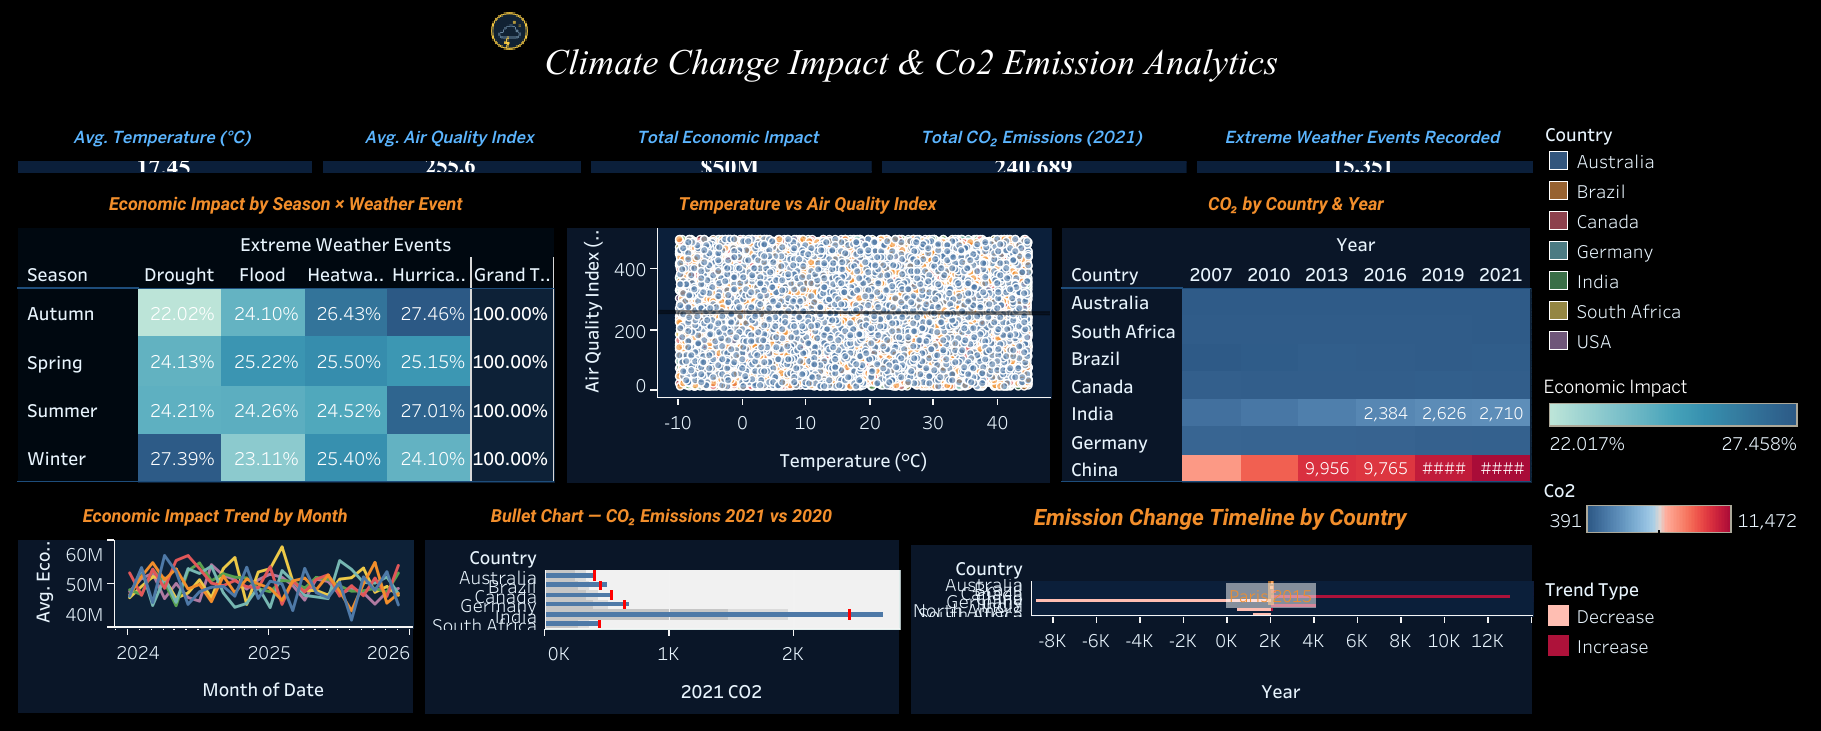

Layout of this report page (visuals, bound fields, positions):
{"tool":"tableau","page":{"name":"Dashboard 1","canvas":[1000,1000],"units":"permille","ordinal":0},"visuals":[{"type":"title","box":[4.8,9.9,990.4,81.9]},{"type":"image","param":"Image/climate-icon-weather.svg","box":[268.6,13.7,36.7,55.8]},{"type":"worksheet","title":"KPI - Avg Temp","mark":"Automatic","box":[4.8,91.8,175.4,97.9]},{"type":"worksheet","title":"KPI - Avg AQI","mark":"Automatic","box":[180.2,91.8,155.2,97.9]},{"type":"worksheet","title":"KPI - Total Economic Impact","mark":"Automatic","box":[335.5,91.8,167.9,97.9]},{"type":"worksheet","title":"KPI - Total CO2","mark":"Automatic","box":[503.4,91.8,182,97.9]},{"type":"worksheet","title":"KPI - Weather Events","mark":"Automatic","box":[685.3,91.8,200.5,97.9]},{"type":"legend","title":"Scatter Plot","param":"[federated.12lx5ag0sbzqpu15u7k9f15peyc4].[none:Country:nk]","box":[885.8,91.8,109.4,259.3]},{"type":"worksheet","title":"Cohort Analysis","mark":"Square","rows":["Season"],"cols":["Extreme Weather Events"],"box":[4.8,189.7,317.4,459.9]},{"type":"worksheet","title":"Scatter Plot","mark":"Circle","rows":["Air Quality Index"],"cols":["Temperature"],"box":[322.3,189.7,285.2,459.9]},{"type":"worksheet","title":"HEAT MAP","mark":"Square","rows":["country"],"cols":["year"],"box":[607.5,189.7,278.3,459.9]},{"type":"legend","title":"Cohort Analysis","param":"[federated.12lx5ag0sbzqpu15u7k9f15peyc4].[pcto:sum:Economic Impact Estimate:qk]","box":[885.8,351.1,109.4,100.5]},{"type":"legend","title":"HEAT MAP","param":"[federated.12lx5ag0sbzqpu15u7k9f15peyc4].[sum:co2:qk]","box":[885.8,451.6,109.4,100.5]},{"type":"legend","title":"GANTT","param":"[federated.12lx5ag0sbzqpu15u7k9f15peyc4].[usr:Calculation_0439034741260304:nk]","box":[885.8,552.1,109.4,111.7]},{"type":"worksheet","title":"Motion Chart","mark":"Line","rows":["Economic Impact Estimate"],"cols":["Date"],"box":[4.8,649.6,235.2,340.5]},{"type":"worksheet","title":"BULLET CHART","mark":"Bar","rows":["country"],"cols":["Calculation_0439034648129536"],"box":[240,649.6,280.6,340.5]},{"type":"worksheet","title":"GANTT","mark":"GanttBar","rows":["country"],"cols":["year"],"box":[520.6,649.6,365.2,340.5]}]}

Visuals, with their boxes on the dashboard's canvas, which has no fixed pixel size, in thousandths of its width and height (x1, y1, x2, y2). These are canvas units, not pixel positions in the 1821x731 screenshot, which may show the page scaled, cropped or inside an application window:
title: [5,10,995,92]
image: [269,14,305,70]
"KPI - Avg Temp" worksheet: [5,92,180,190]
"KPI - Avg AQI" worksheet: [180,92,335,190]
"KPI - Total Economic Impact" worksheet: [336,92,503,190]
"KPI - Total CO2" worksheet: [503,92,685,190]
"KPI - Weather Events" worksheet: [685,92,886,190]
"Scatter Plot" legend: [886,92,995,351]
"Cohort Analysis" worksheet (Square marks): [5,190,322,650]
"Scatter Plot" worksheet (Circle marks): [322,190,608,650]
"HEAT MAP" worksheet (Square marks): [608,190,886,650]
"Cohort Analysis" legend: [886,351,995,452]
"HEAT MAP" legend: [886,452,995,552]
"GANTT" legend: [886,552,995,664]
"Motion Chart" worksheet (Line marks): [5,650,240,990]
"BULLET CHART" worksheet (Bar marks): [240,650,521,990]
"GANTT" worksheet (GanttBar marks): [521,650,886,990]
